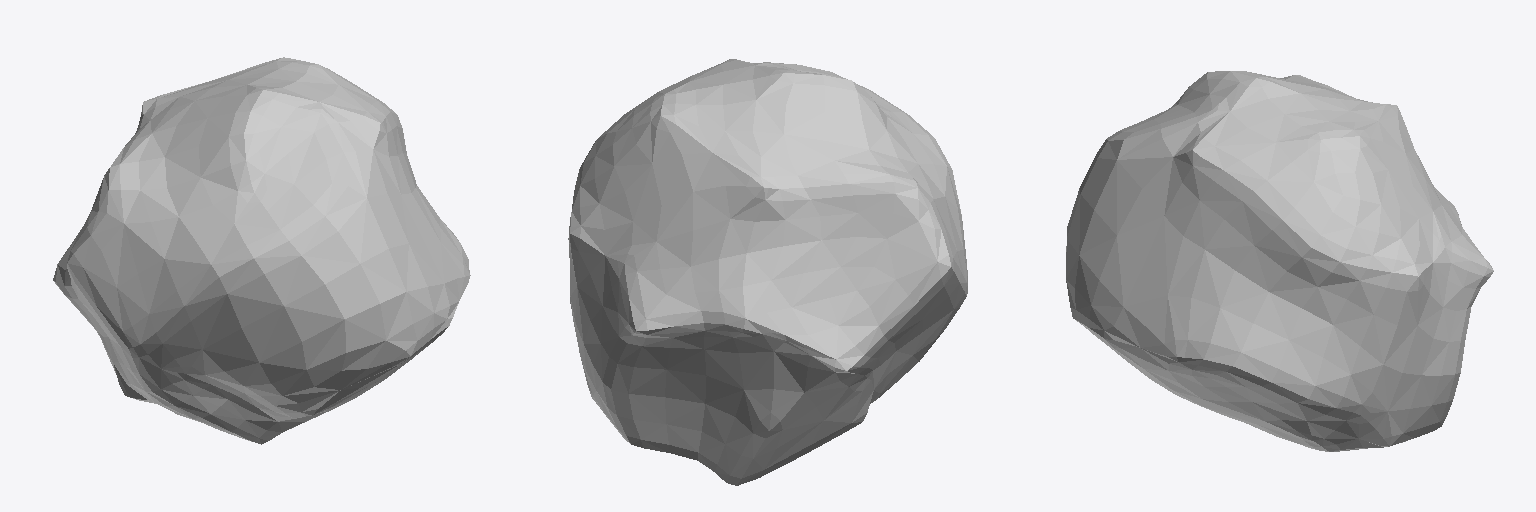
The model's file is Asteroid_Small_4.obj.
3 views of the same model, side by side, from view 1: azimuth 30°, elevation 25°; view 2: azimuth 150°, elevation 25°; view 3: azimuth 270°, elevation 25° (orthographic).
Parts seen in each view (by area): view 1: Aster_Small_3__Cube.015; view 2: Aster_Small_3__Cube.015; view 3: Aster_Small_3__Cube.015.
Boxes of the visible parts, x1=… form: Aster_Small_3__Cube.015: x1=53, y1=57, x2=470, y2=444; Aster_Small_3__Cube.015: x1=568, y1=59, x2=967, y2=485; Aster_Small_3__Cube.015: x1=1066, y1=71, x2=1493, y2=451.
Bounding box in the file's own units: 1.43 × 1.29 × 1.42.